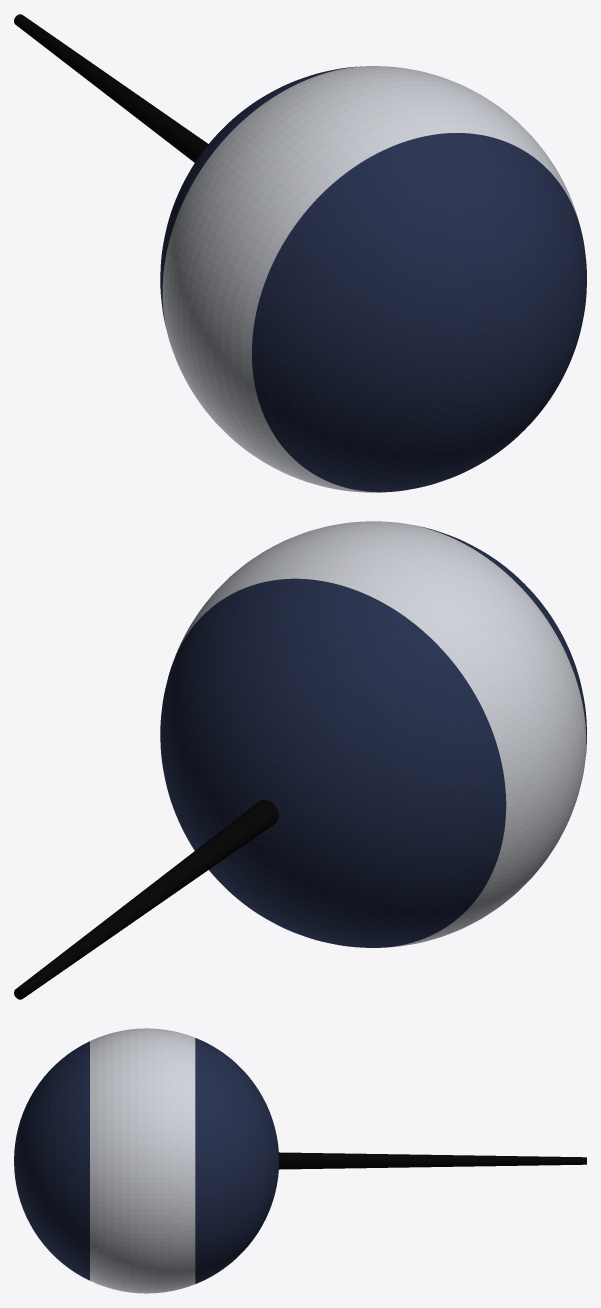
The model's file is charlottesvilleSmall.glb.
3 views of the same model, one above another, from view 1: azimuth 30°, elevation 25°; view 2: azimuth 150°, elevation 25°; view 3: azimuth 270°, elevation 25° (orthographic). The views are drawn at different scales.
Visible parts, largest first — view 1: Sphere.011; view 2: Sphere.011; view 3: Sphere.011.
Boxes of the visible parts, <box> form: Sphere.011: <box>14,14,586,492</box>; Sphere.011: <box>14,521,586,999</box>; Sphere.011: <box>14,1028,586,1293</box>.
Size of the model in its own units: 0.9998 by 1 by 2.16.
